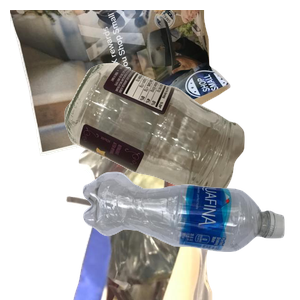glass: (62, 60, 300, 240)
paper: (10, 10, 233, 158)
plastic: (80, 169, 300, 300)
trash: (63, 120, 300, 300)
